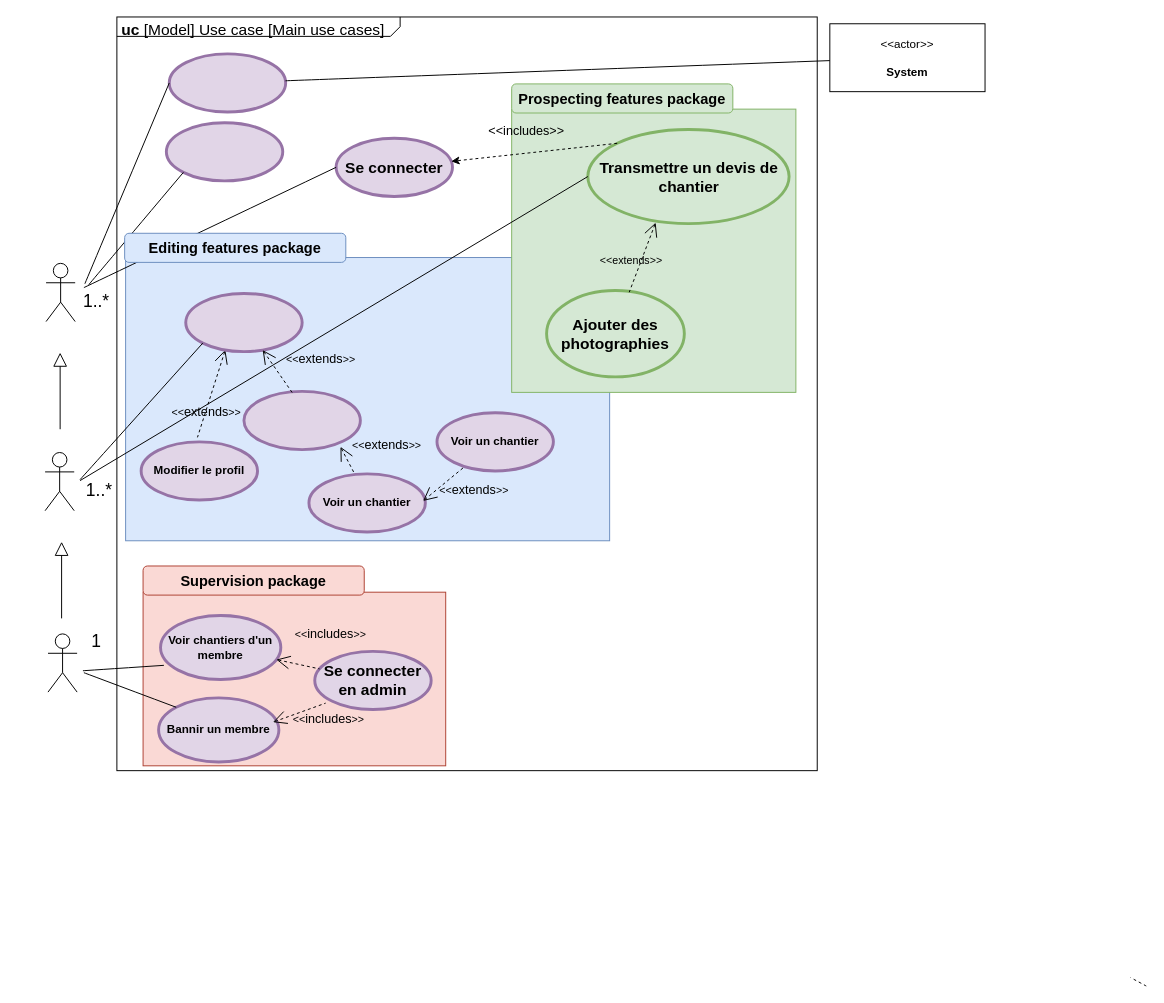
The diagram is 1164 pixels wide and 1003 high, and some of its shapes have lost their labels. The shapes that lost their labels are listed below. From the top down, each one's centre as x and y in pixels, then its label:
point (227, 82): Créer un compte
point (224, 151): Mot de passe oublié
point (60, 292): Visitor
point (243, 322): Consulter son profil
point (301, 420): Voir liste de ses chantiers
point (59, 481): Member
point (62, 662): Administrator
